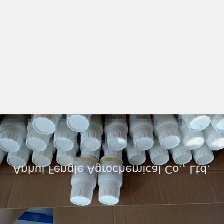insecticide: (28, 80, 66, 136), (23, 95, 55, 154), (60, 83, 97, 134), (66, 153, 100, 207), (3, 118, 38, 170), (175, 98, 208, 151), (50, 96, 81, 152), (0, 97, 30, 154), (74, 96, 104, 152), (161, 117, 195, 166), (124, 98, 155, 151), (183, 120, 217, 167), (95, 152, 124, 207), (151, 97, 181, 150), (101, 98, 131, 151), (196, 100, 224, 154), (28, 125, 60, 171), (53, 122, 84, 168), (144, 121, 171, 168), (178, 95, 210, 131), (123, 124, 147, 166), (205, 89, 223, 136)
